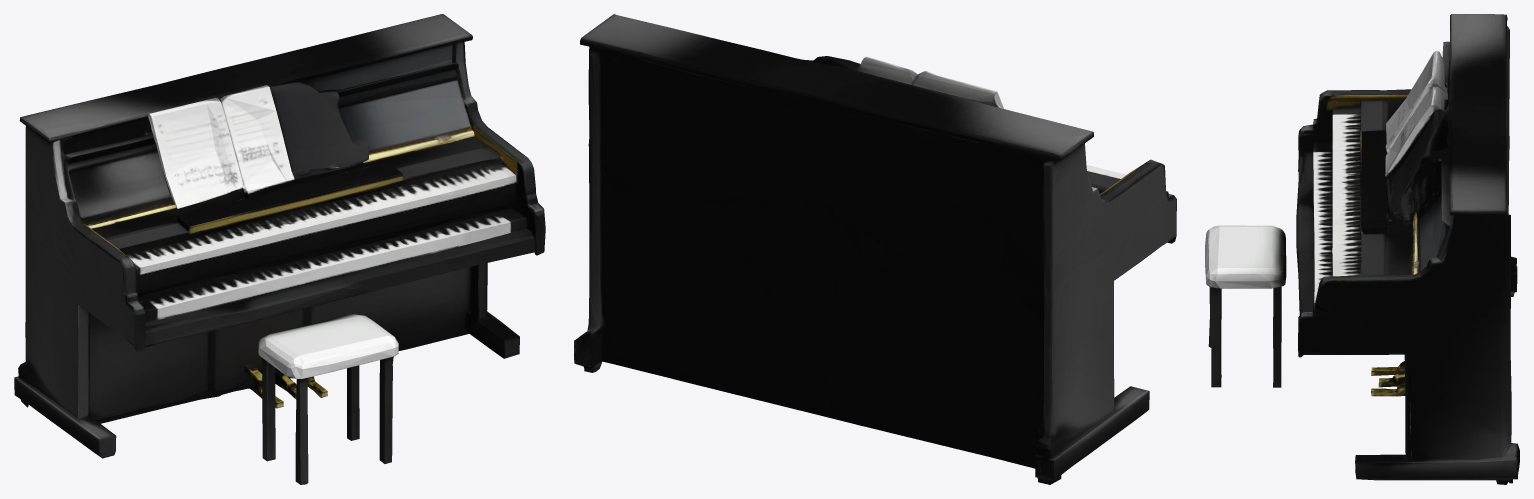
Rendered from piano.glb.
The picture shows the model from 3 angles, left to right: view 1: azimuth 30°, elevation 25°; view 2: azimuth 150°, elevation 25°; view 3: azimuth 270°, elevation 25°; orthographic projection. The views are drawn at different scales.
Parts seen in each view (by area): view 1: world; view 2: world; view 3: world.
Part boxes in pixels (box(x1,y1,x2,y2)): world: box(14, 14, 545, 484); world: box(574, 14, 1176, 484); world: box(1205, 14, 1519, 484).
Size of the model in its own units: 1 by 0.6683 by 0.6746.
1 material, 1 textured.
